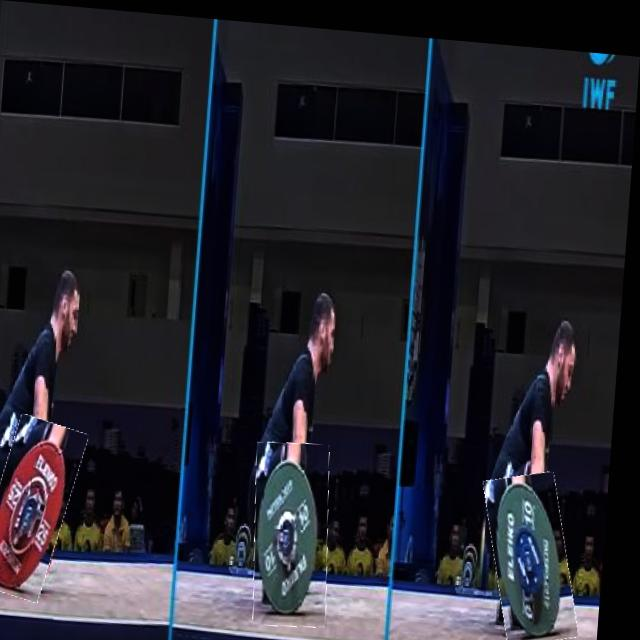barbell: (491, 461, 589, 639), (257, 436, 344, 624), (1, 415, 88, 602)
